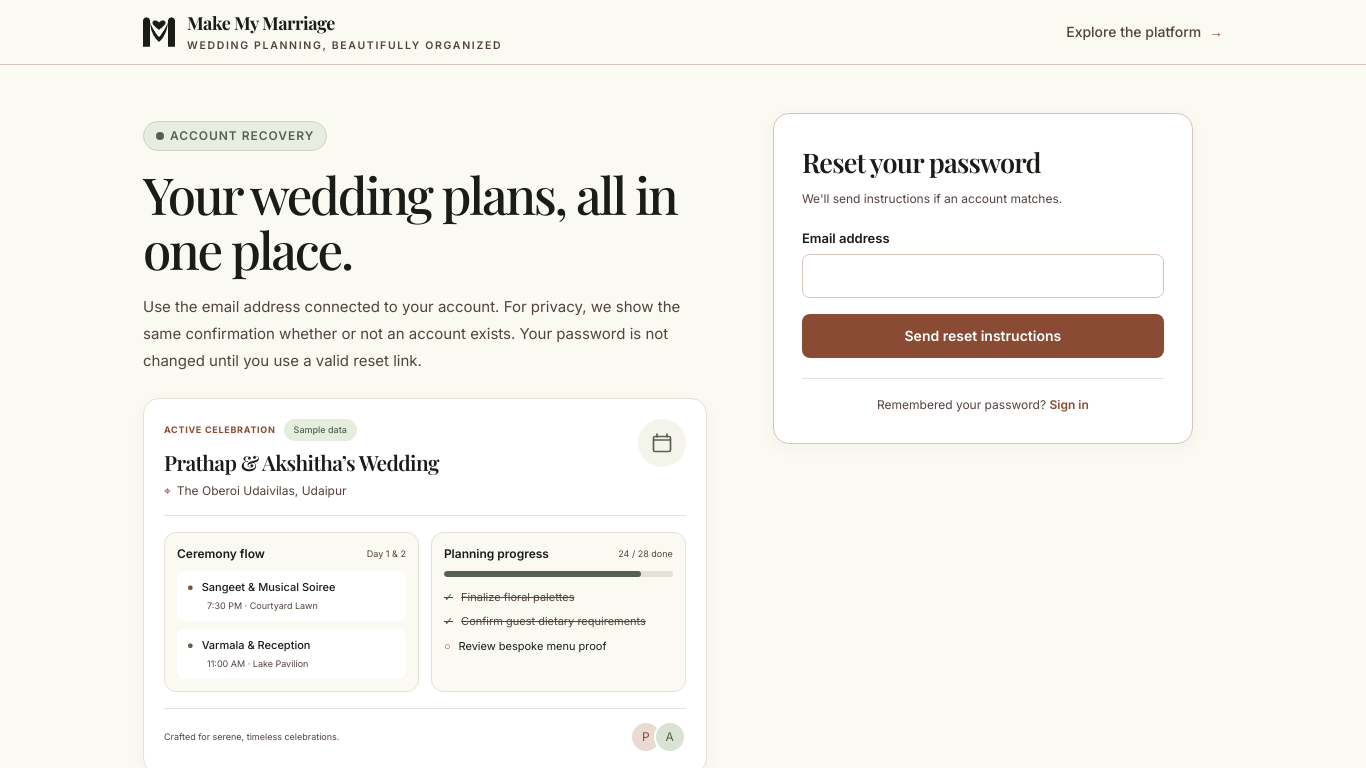
it: authentication screens › shows an API error when reset email is not configured
In the field labelled "Email address": (983, 276) [802, 254, 1164, 298], type "unconfigured@example.com"
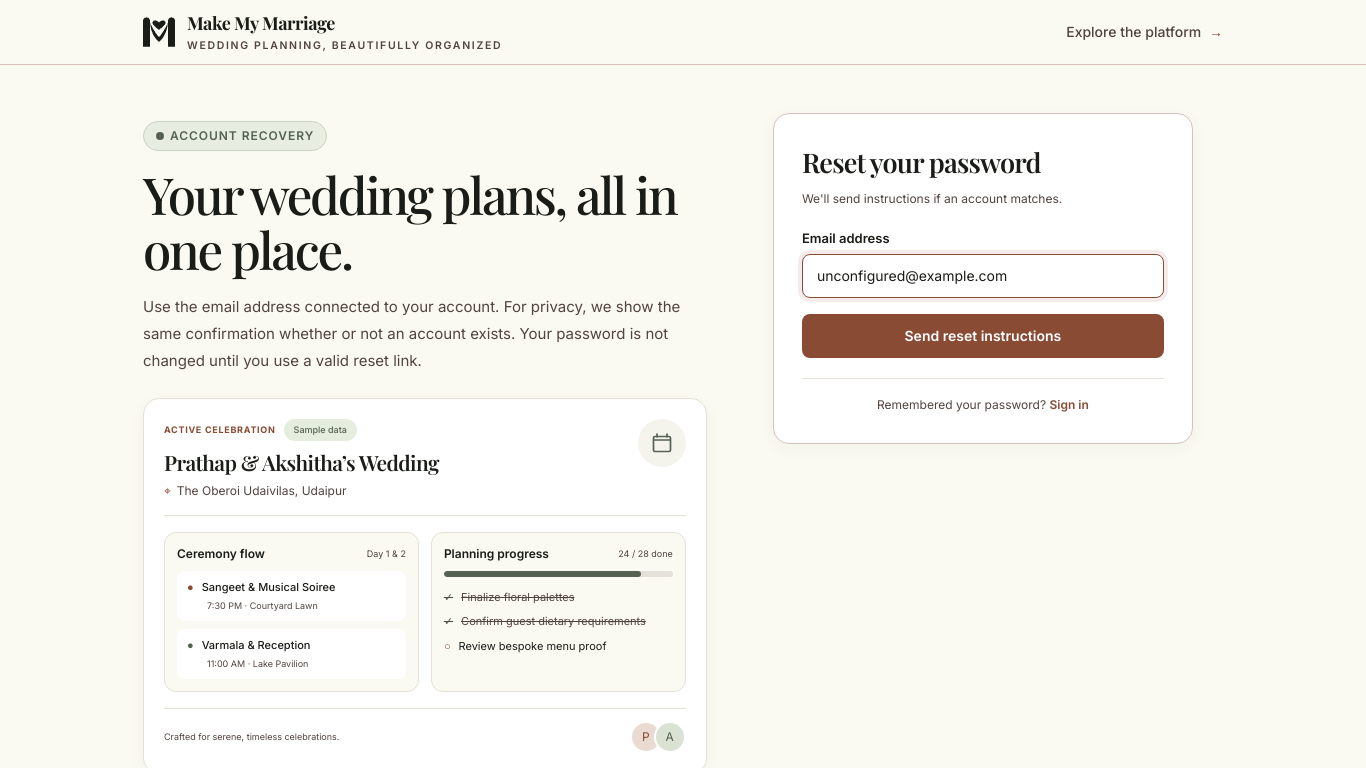
Click the button "Send reset instructions": (983, 336) [802, 314, 1164, 358]
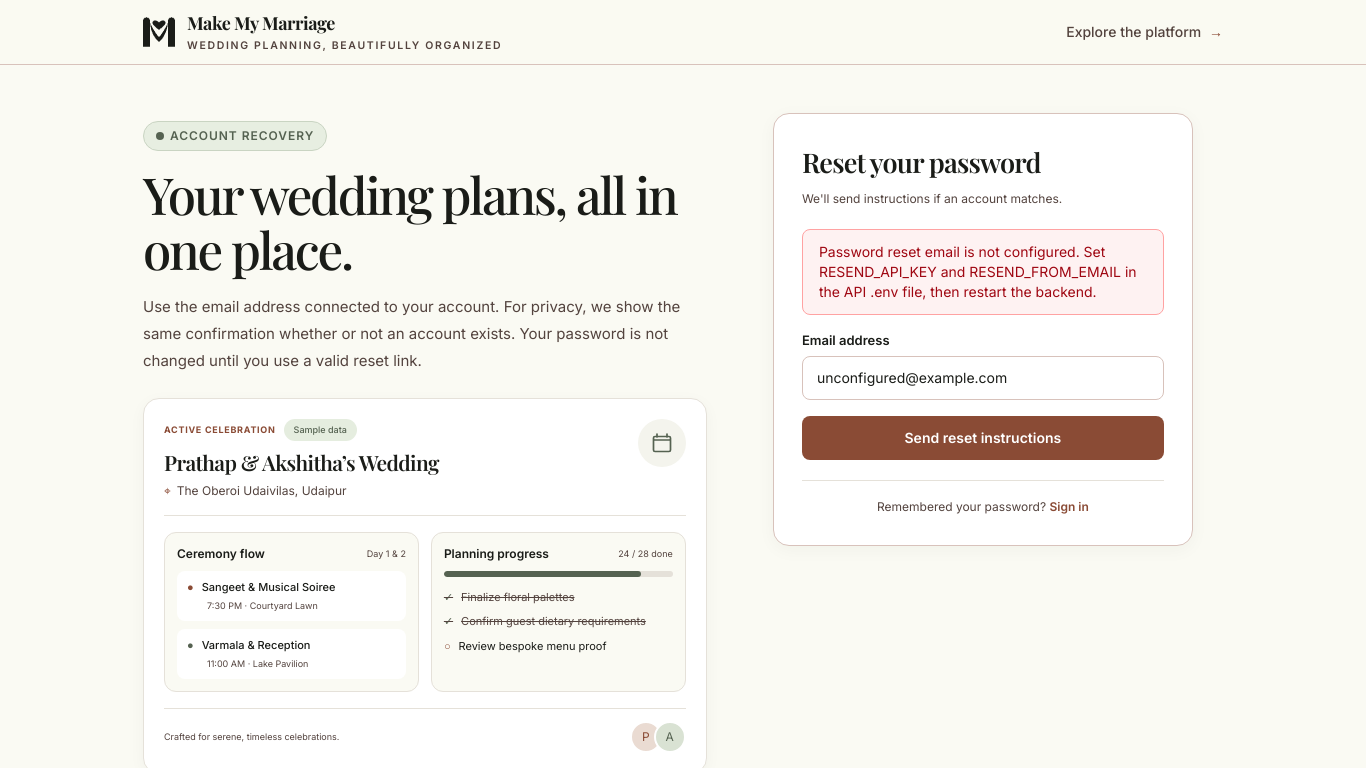
expect the text "Password reset email is not configured. Set RESEND_API_KEY and RESEND_FROM_EMAIL in the API .env file, then restart the " is shown: met, box [819, 242, 1137, 300]
